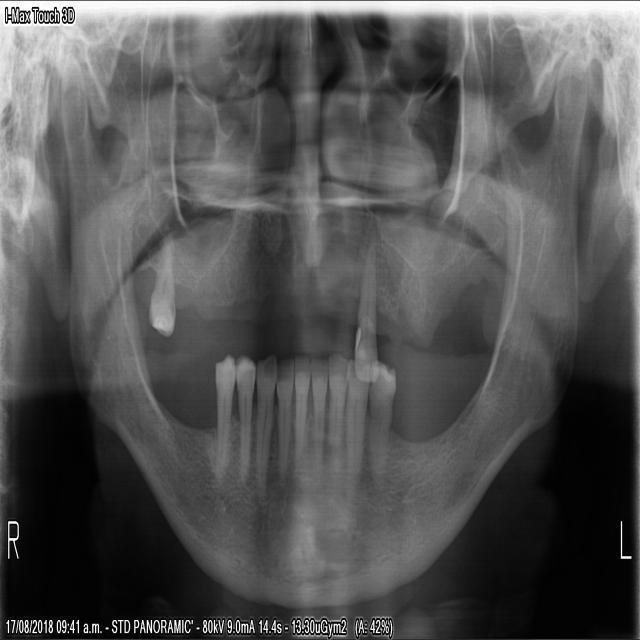LCD: (342, 352, 369, 493)
LID: (324, 343, 349, 477), (307, 350, 328, 478)
LPMD: (364, 354, 398, 491)
LPMU: (352, 235, 379, 386)
RCD: (251, 346, 277, 503)
RID: (273, 350, 295, 489), (290, 348, 311, 471)
RMU: (143, 224, 176, 343)
RPMD: (210, 344, 236, 480), (232, 347, 256, 491)
